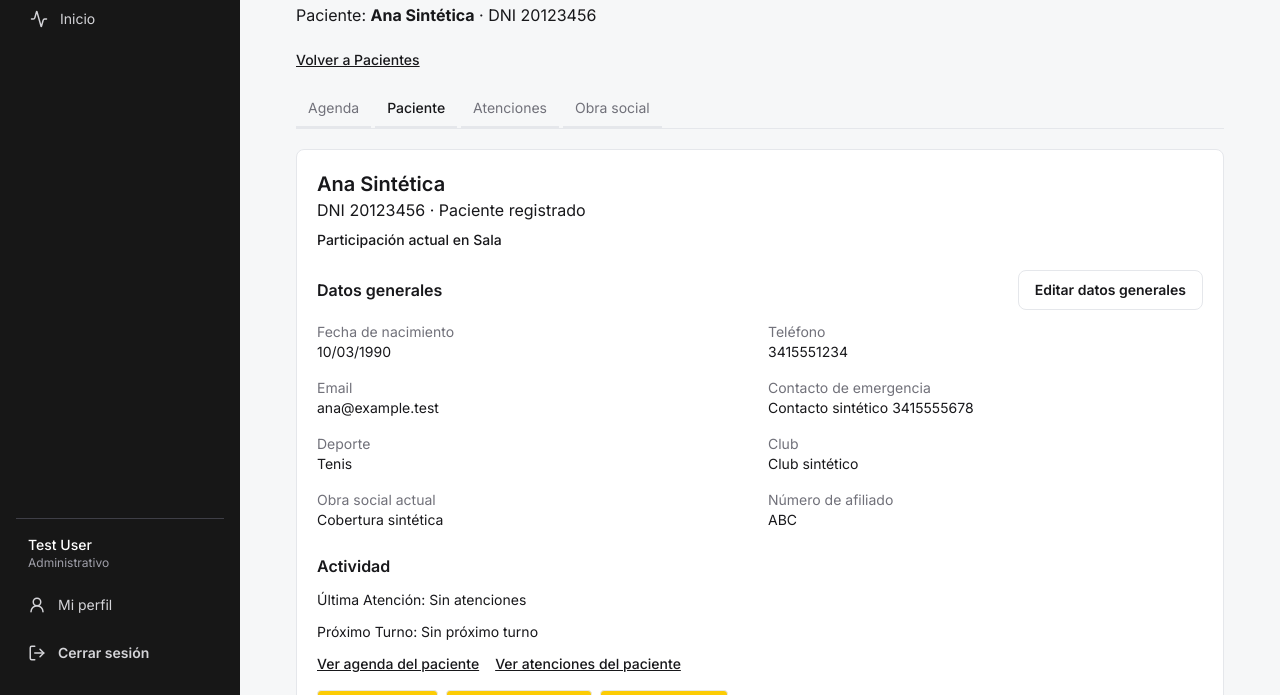
Test case: lets Administrative edit shared general data and operate without fetching reserved clinical history
Click the button "Editar datos generales". click: [1110, 290]
box: [1018,270,1203,310]
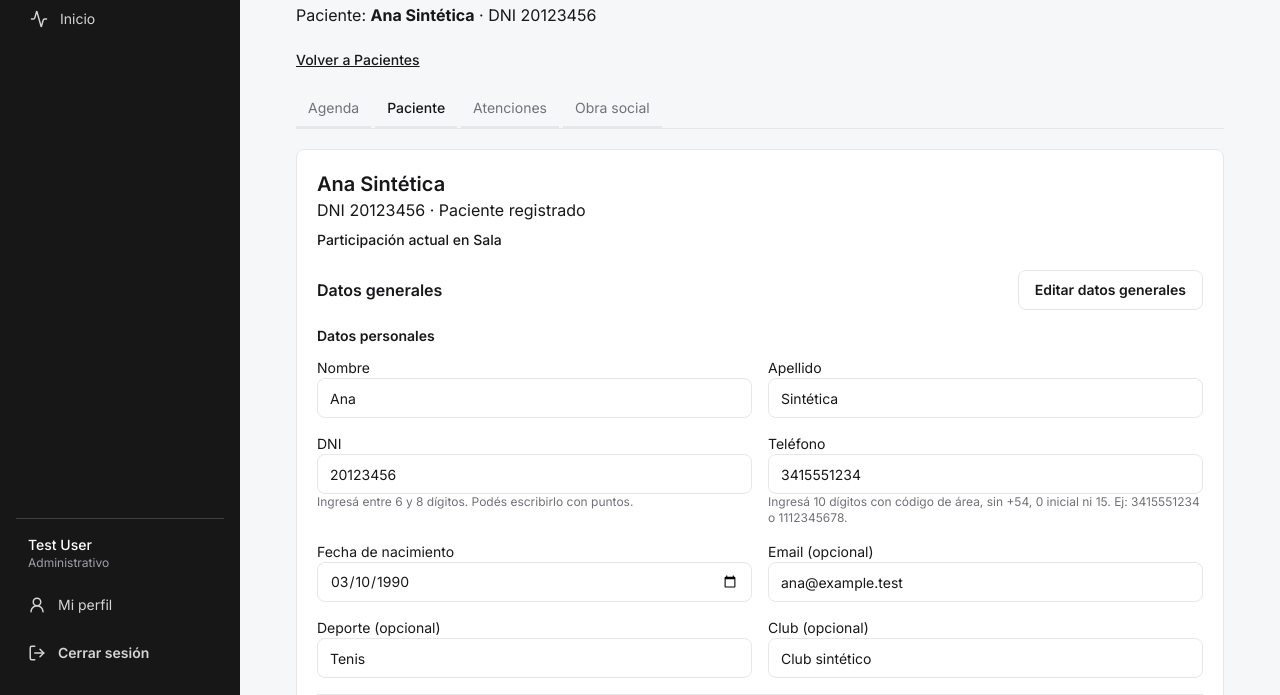
Replace the text in the field labelled "Deporte (opcional)" with "Natación". click: [534, 658]
box: [317,638,752,678]
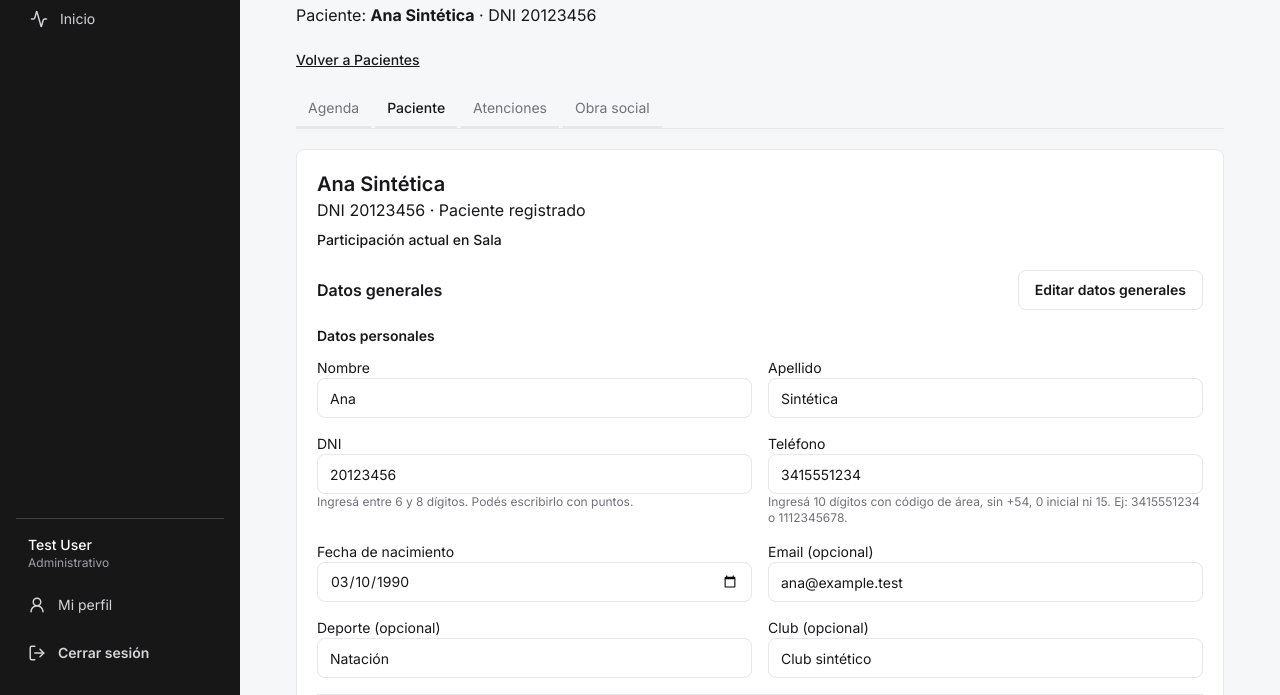
Clear the field labelled "Club (opcional)". click: [986, 658]
box: [768,638,1203,678]
(page scrolled)
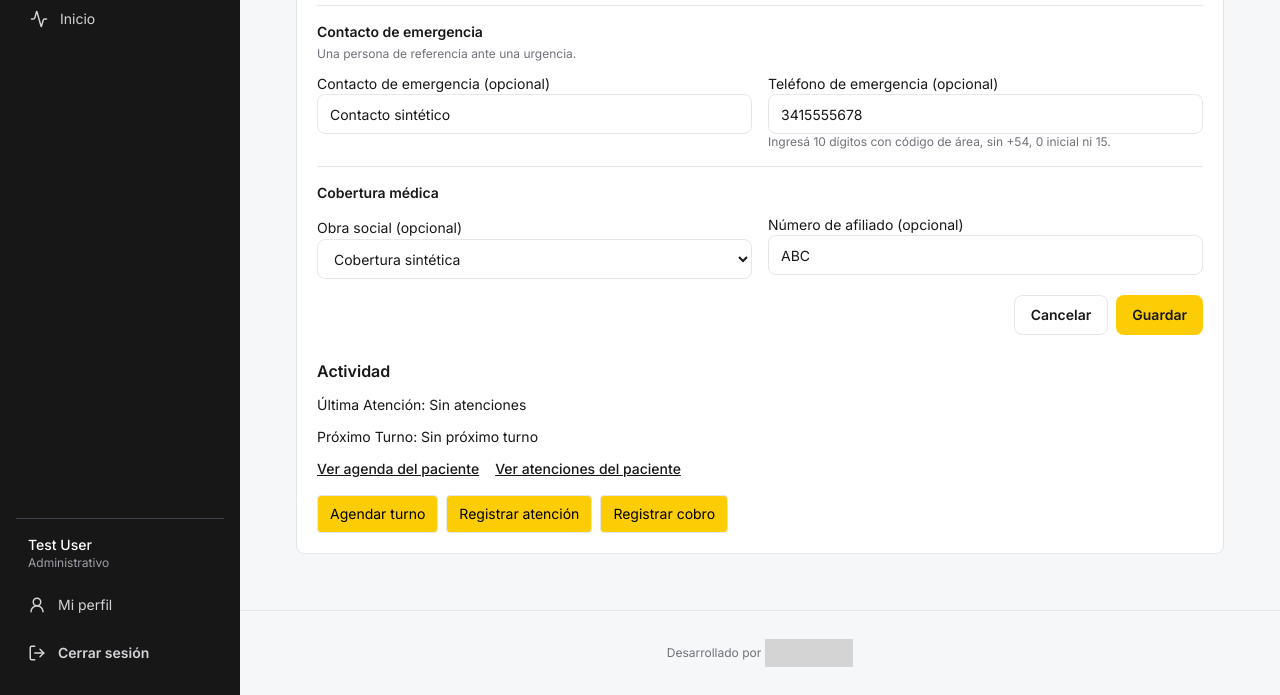
Click the button "Guardar". click: [1160, 315]
box: [1116,295,1203,335]
(page scrolled)
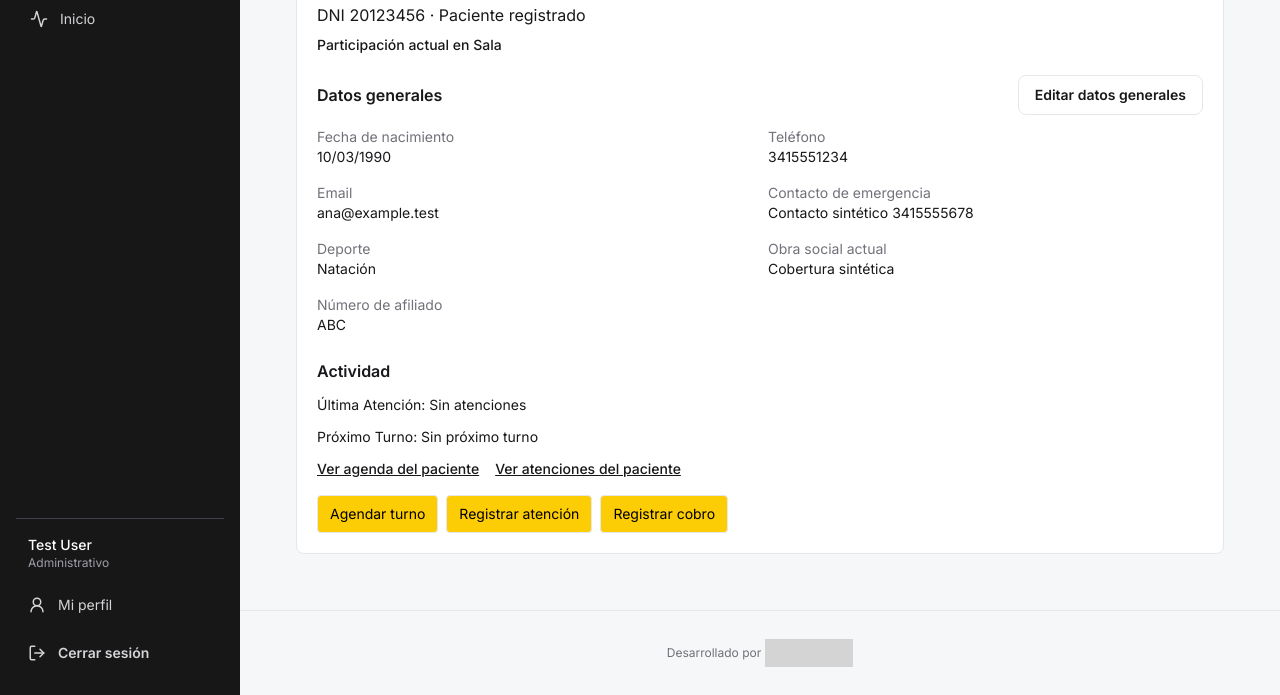
Expected: the text "Club sintético" is not shown
Now the text "Natación" is shown, box [317,260,376,277]
